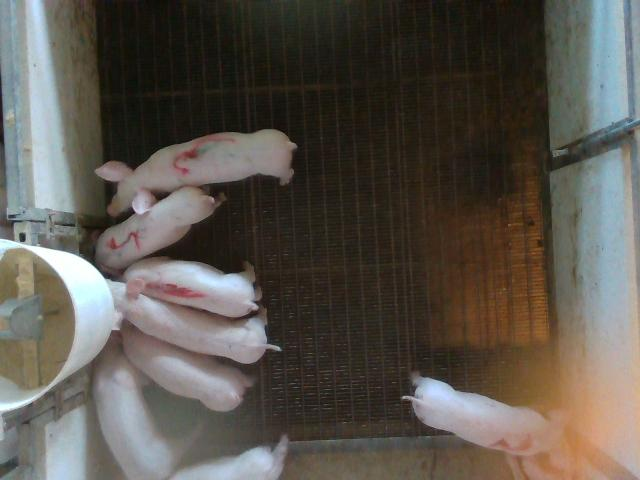pig-1: (122, 258, 261, 318)
pig-2: (402, 372, 571, 468)
pig-3: (95, 129, 298, 216)
pig-5: (95, 186, 225, 271)
